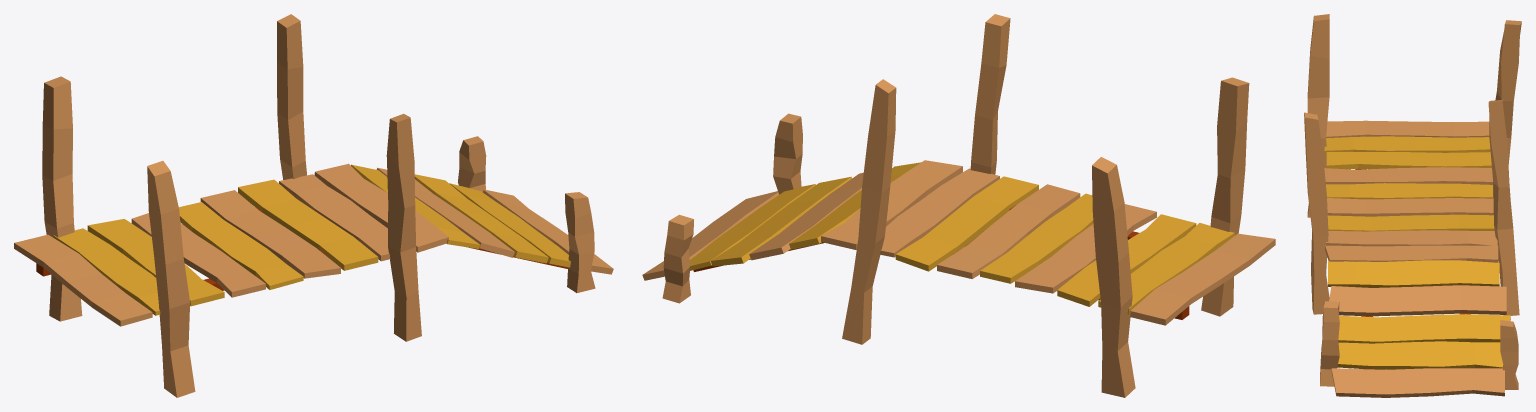
File: cartoon_boardwalk_ramp.glb
3 renders of one model, left to right at view 1: azimuth 30°, elevation 25°; view 2: azimuth 150°, elevation 25°; view 3: azimuth 270°, elevation 25°, orthographic. The views are drawn at different scales.
Visible parts, largest first — view 1: Object_2, Object_4; view 2: Object_2, Object_4; view 3: Object_2, Object_4.
Boxes of the visible parts, x1,y1,x2,y2 form: Object_2: [14, 14, 613, 397]; Object_4: [53, 164, 570, 315]; Object_2: [642, 14, 1275, 397]; Object_4: [689, 162, 1234, 314]; Object_2: [1304, 14, 1521, 397]; Object_4: [1324, 136, 1510, 369].
Bounding box in the file's own units: 29.79 × 13.95 × 13.2.
